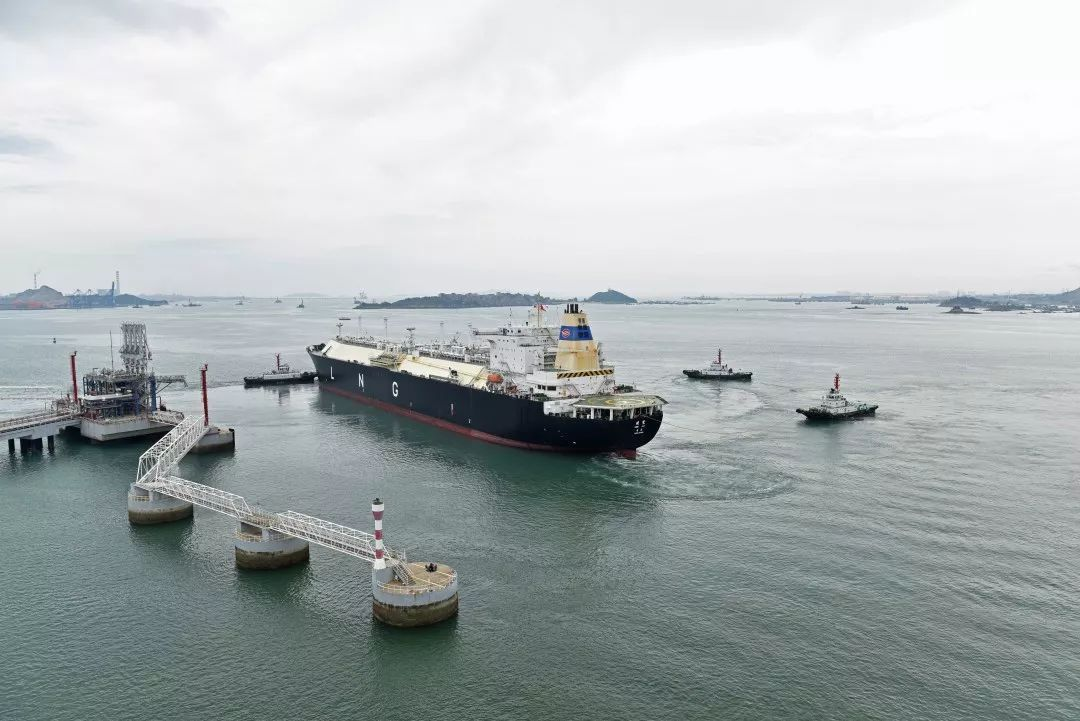Cargoship: (313, 299, 669, 473)
otherboat: (794, 381, 880, 423), (244, 354, 320, 393), (673, 354, 756, 388)
